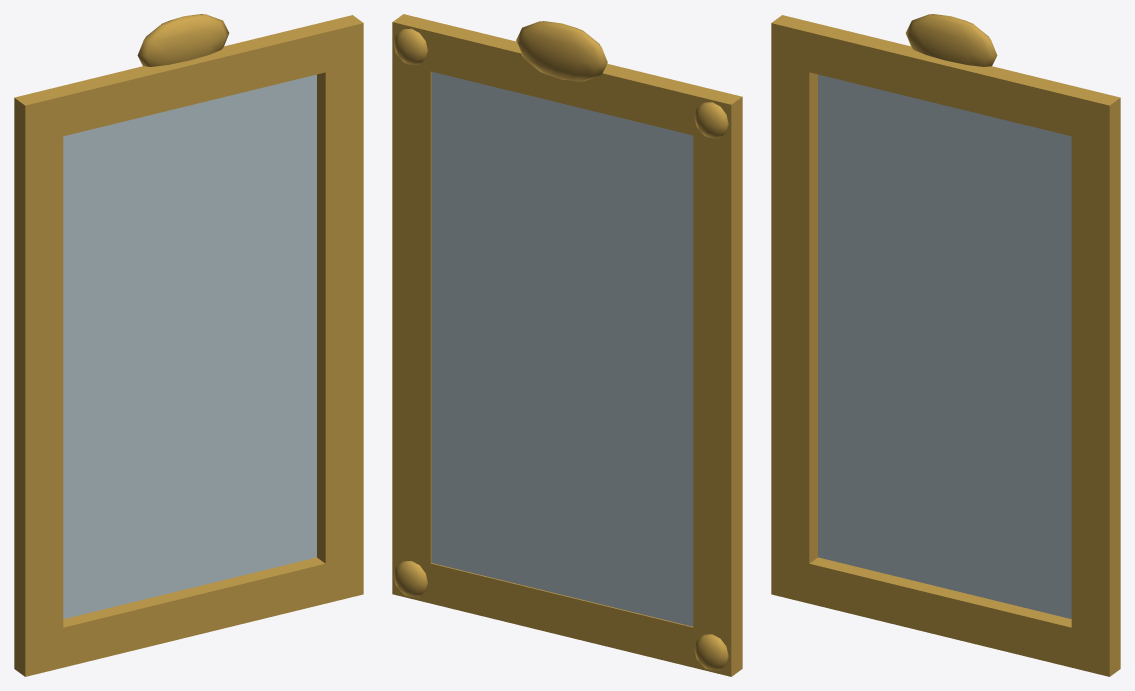
Rendered from SM_ENV_MolduraL.fbx.
3 views of the same model, side by side, from view 1: azimuth 30°, elevation 25°; view 2: azimuth 150°, elevation 25°; view 3: azimuth 330°, elevation 25° (orthographic).
Visible parts, largest first — view 1: SM_ENV_MolduraL; view 2: SM_ENV_MolduraL; view 3: SM_ENV_MolduraL.
Boxes of the visible parts, left/top/right/bottom form: SM_ENV_MolduraL: left=14, top=14, right=363, bottom=676; SM_ENV_MolduraL: left=392, top=14, right=742, bottom=676; SM_ENV_MolduraL: left=771, top=14, right=1120, bottom=676.
Size of the model in its own units: 1.24 by 2.14 by 0.112.
